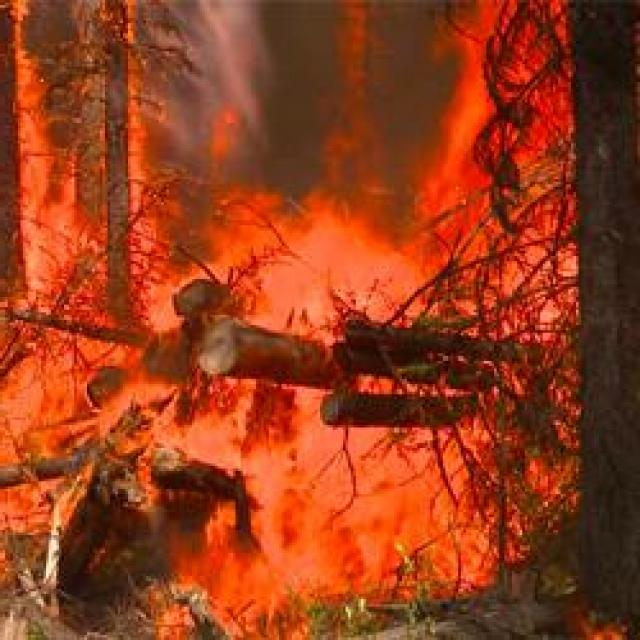fire: (258, 460, 324, 575), (327, 499, 417, 574), (26, 185, 74, 278), (20, 61, 52, 187), (301, 220, 359, 282), (422, 147, 472, 211), (444, 84, 488, 148), (284, 387, 322, 461), (3, 381, 41, 436), (272, 264, 316, 306), (352, 252, 398, 284)
smoke: (197, 0, 260, 105), (165, 77, 228, 141)
